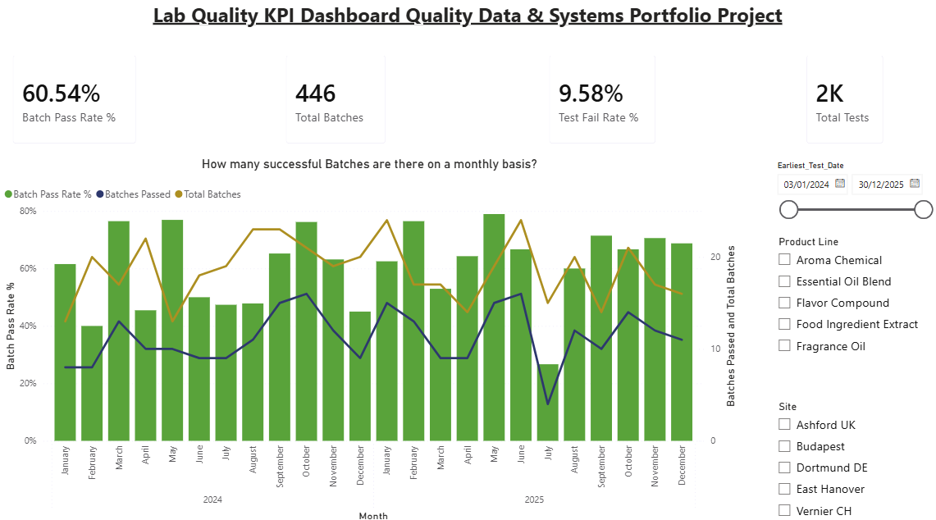

The page's visual inventory and layout, read from the dashboard file:
{"tool":"powerbi","page":{"name":"Overview","canvas":[1280,720],"ordinal":0},"visuals":[{"type":"cardVisual","title":"Batch Pass Rates","fields":{"Data":["Batch_level_table.Batch Pass Rate %"]},"box":[6.2,61.2,201.5,154.8],"z":0},{"type":"cardVisual","fields":{"Data":["Batch_level_table.Total Batches"]},"box":[376.2,61.2,169.1,154.8],"z":1000},{"type":"cardVisual","fields":{"Data":["Test_level_table.Total Tests"]},"box":[1081.2,61.2,138.6,154.8],"z":2000},{"type":"cardVisual","fields":{"Data":["Test_level_table.Test Fail Rate %"]},"box":[732.5,61.2,178.1,154.8],"z":3000},{"type":"lineStackedColumnComboChart","title":"How many successful Batches are there on a monthly basis?","fields":{"Category":["Batch_level_table.Earliest_Test_Date.Variation.Date Hierarchy.Year","Batch_level_table.Earliest_Test_Date.Variation.Date Hierarchy.Month"],"Y":["Batch_level_table.Batch Pass Rate %"],"Y2":["Batch_level_table.Batches Passed","Batch_level_table.Total Batches"]},"box":[6.2,216.2,1001.2,500],"z":4000},{"type":"slicer","fields":{"Values":["Batch_level_table.Earliest_Test_Date"]},"box":[1047,216,232,102],"z":5000},{"type":"slicer","fields":{"Values":["Batch_level_table.Site"]},"box":[1048,542,232,176],"z":6000},{"type":"slicer","fields":{"Values":["Batch_level_table.Product Line"]},"box":[1048,318,232,224],"z":7000},{"type":"textbox","box":[0,0,1280,80],"z":8000}]}

Visuals, with their boxes in screenshot pixels (x1, y1, x2, y2), scaled from the page's 1280x720 canvas onto the 936x520 screenshot:
"Batch Pass Rates" cardVisual: crop(5, 44, 152, 156)
cardVisual - Batch_level_table.Total Batches: crop(275, 44, 399, 156)
cardVisual - Test_level_table.Total Tests: crop(791, 44, 892, 156)
cardVisual - Test_level_table.Test Fail Rate %: crop(536, 44, 666, 156)
"How many successful Batches are there on a monthly basis?" lineStackedColumnComboChart: crop(5, 156, 737, 517)
slicer - Batch_level_table.Earliest_Test_Date: crop(766, 156, 935, 230)
slicer - Batch_level_table.Site: crop(766, 391, 935, 519)
slicer - Batch_level_table.Product Line: crop(766, 230, 935, 391)
textbox: crop(0, 0, 935, 58)
